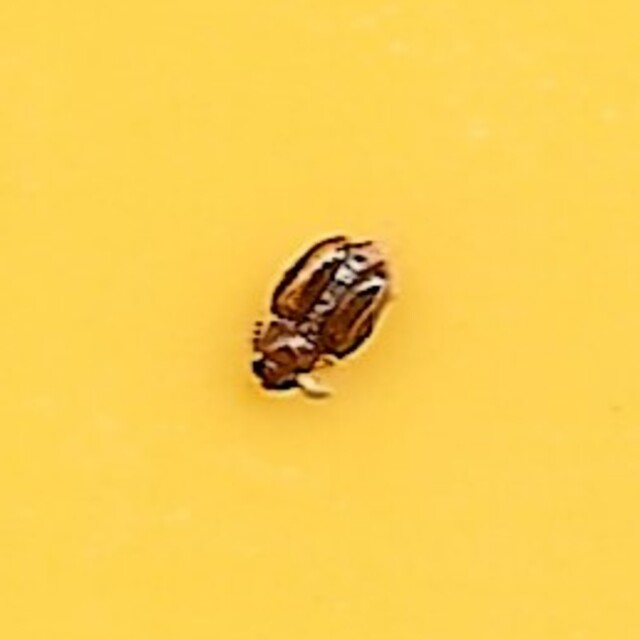Coleoptera: (248, 236, 392, 404)
